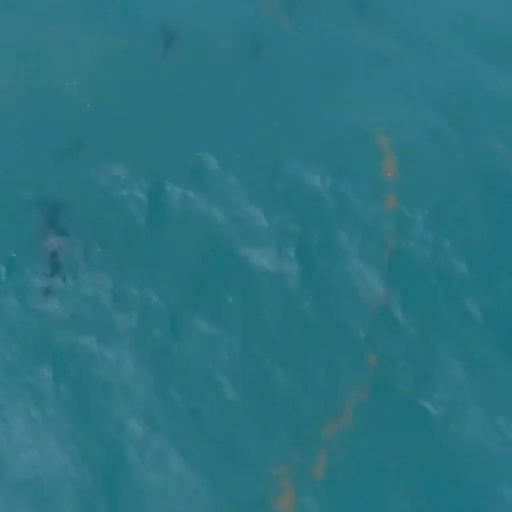shark: (25, 194, 74, 299)
